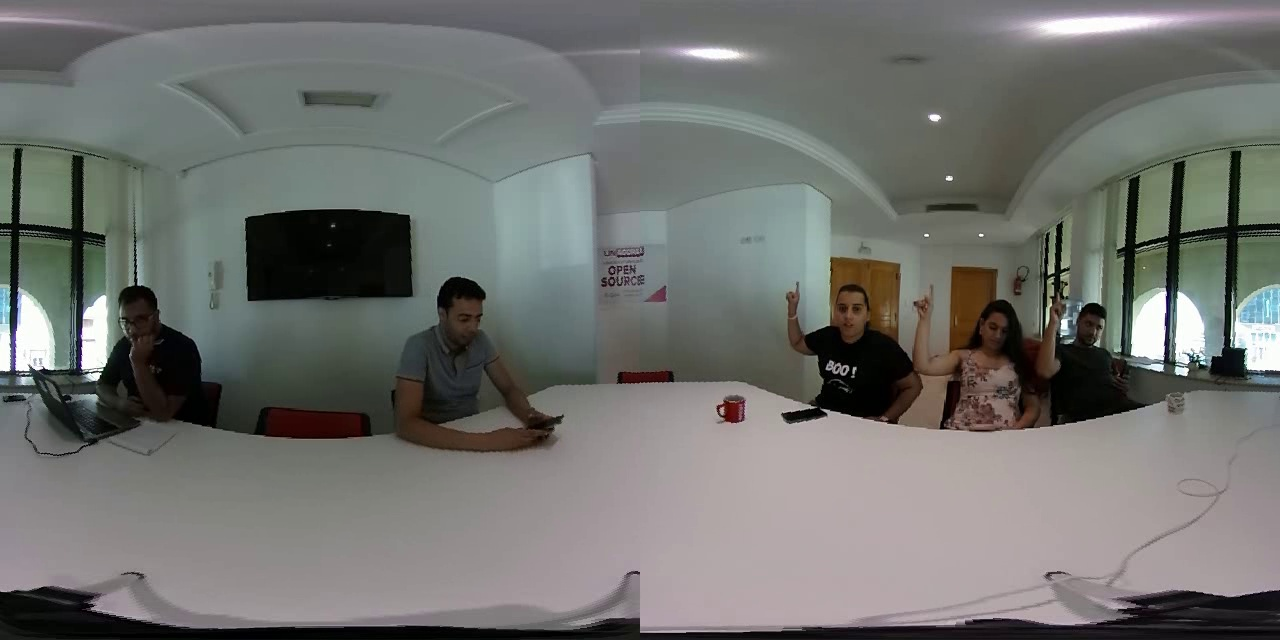person: (386, 262, 516, 456), (773, 259, 909, 439), (908, 260, 1035, 444), (87, 273, 210, 435), (1037, 268, 1137, 432)
speaking: (908, 266, 946, 382), (1039, 272, 1072, 383), (777, 265, 813, 355)
